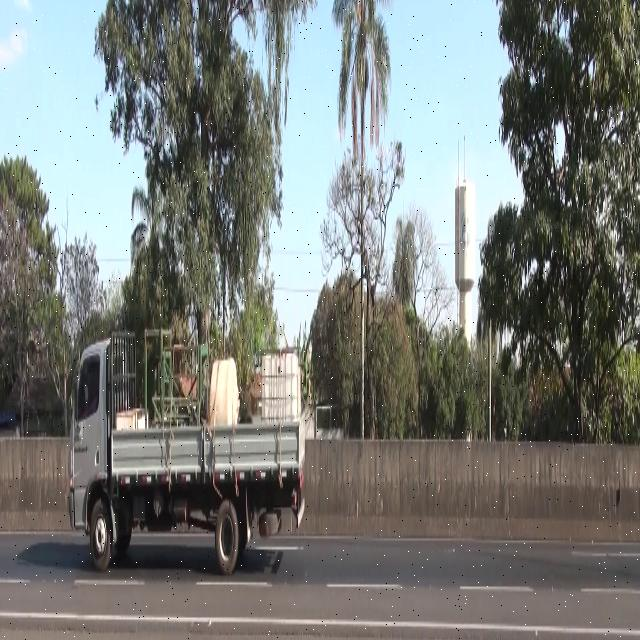-axle: (213, 494, 241, 582), (86, 492, 114, 572)
